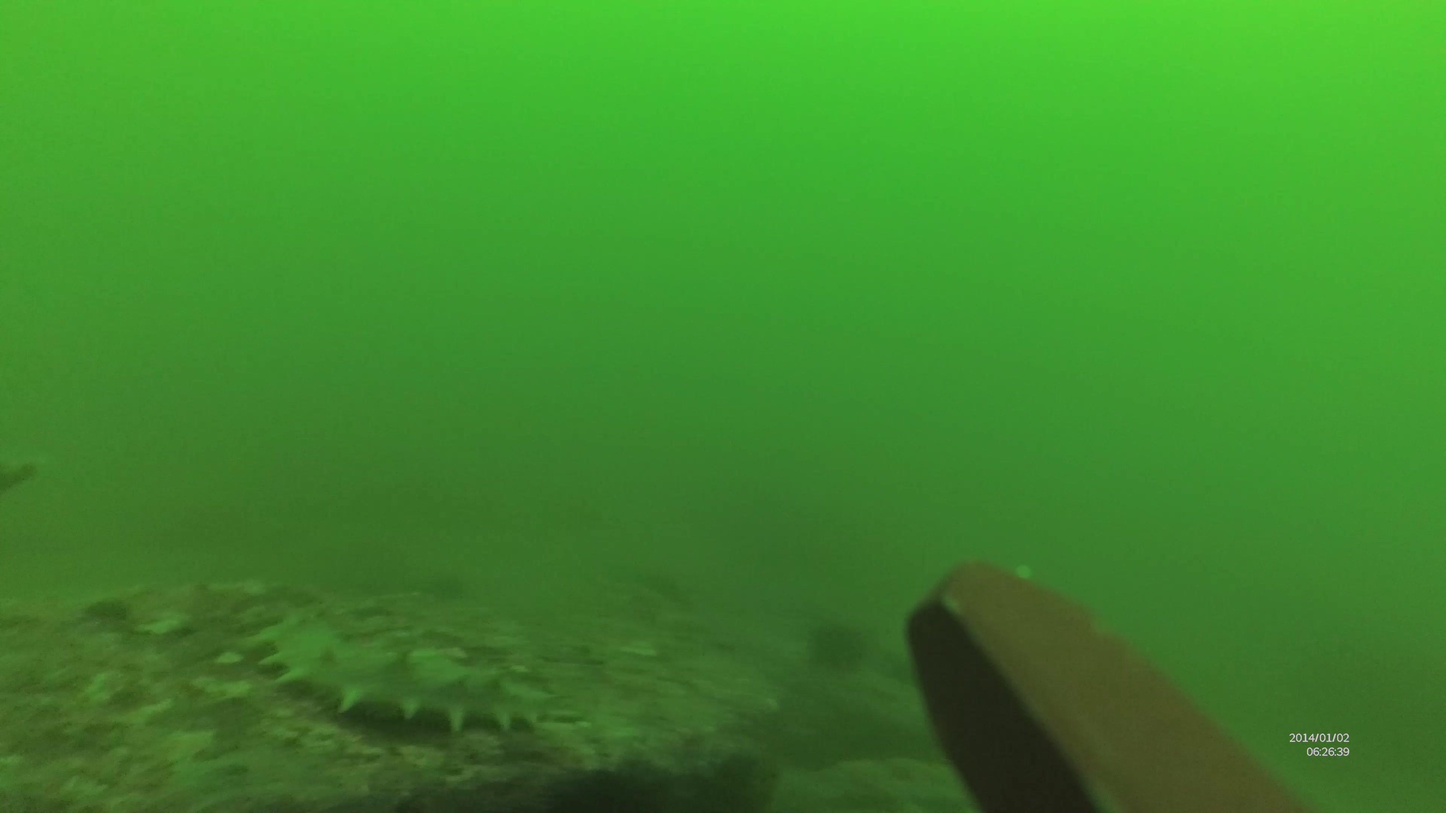echinus: (254, 617, 554, 733)
starfish: (802, 619, 875, 677)
